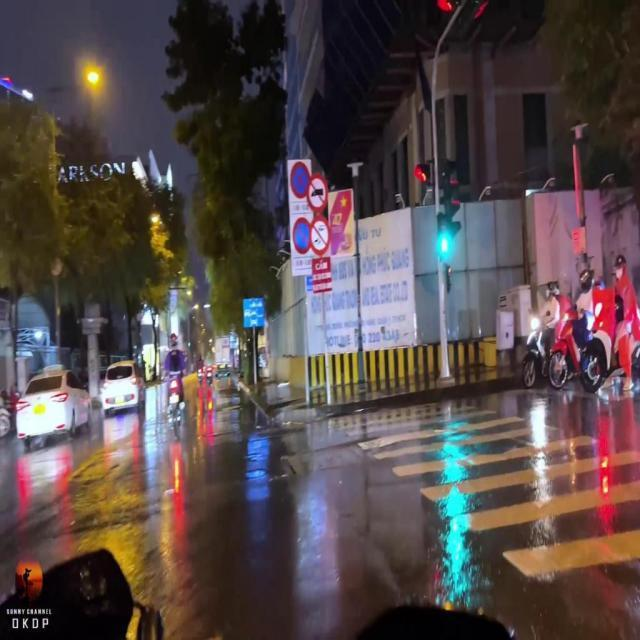106-cam-oto-tai: (308, 176, 328, 212)
130-cam-dung-va-do-xe: (290, 162, 310, 198)
131a-cam-do-xe: (292, 218, 312, 254)
